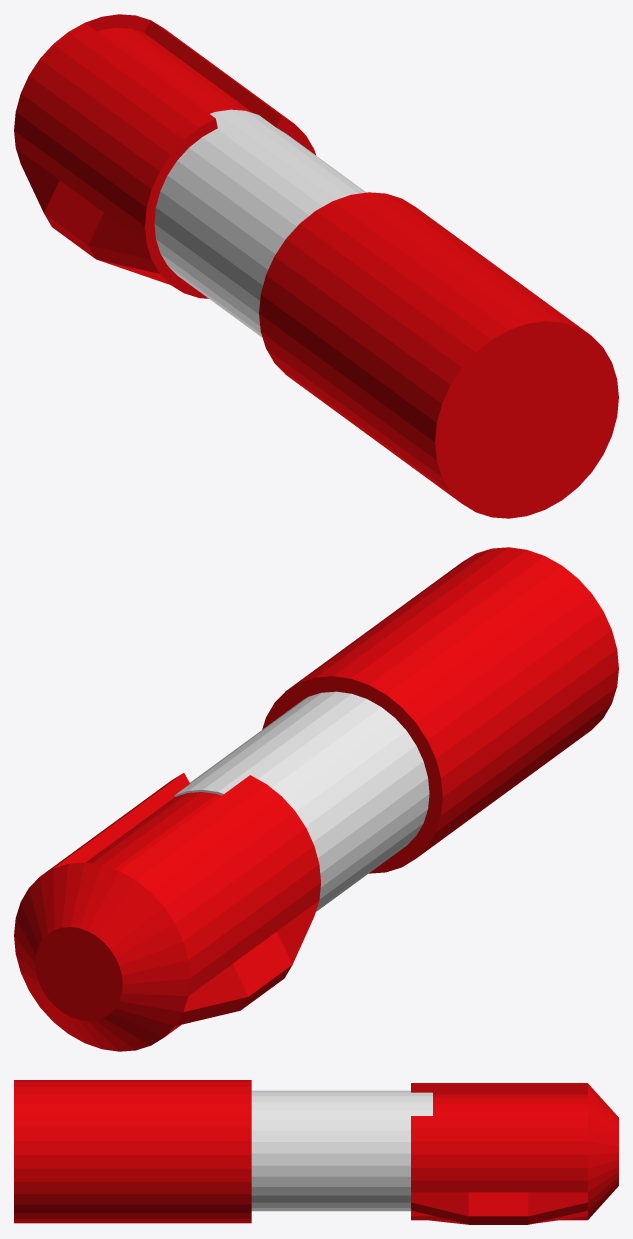
File: tethergun.fbx
The picture shows the model from 3 angles, top to bottom: view 1: azimuth 30°, elevation 25°; view 2: azimuth 150°, elevation 25°; view 3: azimuth 270°, elevation 25°; orthographic projection. The views are drawn at different scales.
Visible parts, largest first — view 1: Cylinder, Cylinder.001; view 2: Cylinder, Cylinder.001; view 3: Cylinder, Cylinder.001.
Boxes of the visible parts, x1,y1,x2,y2 form: Cylinder: (14,14,618,518); Cylinder.001: (154,109,366,337); Cylinder: (14,547,618,1051); Cylinder.001: (174,691,429,911); Cylinder: (14,1080,618,1224); Cylinder.001: (251,1090,432,1211).
Bounding box in the file's own units: 76.9 × 73.76 × 293.
